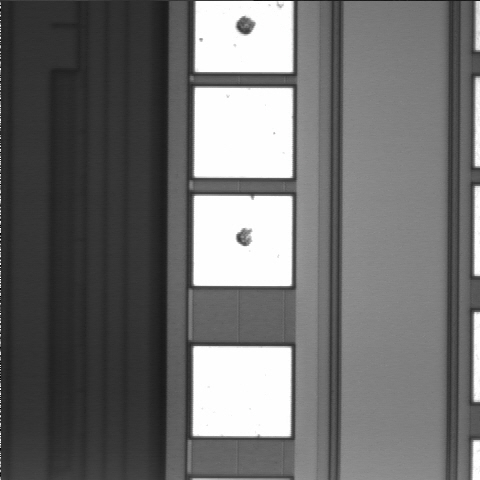pad: (194, 88, 293, 178), (194, 196, 292, 286), (193, 346, 291, 436)
